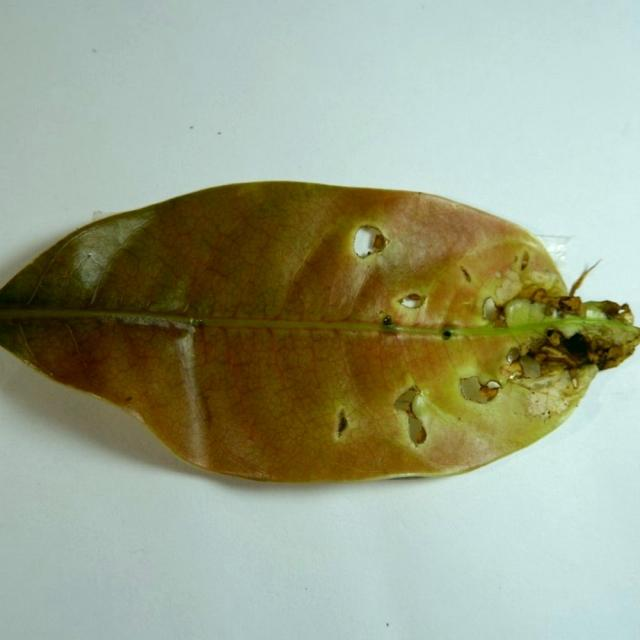Anthracnose: (339, 222, 392, 275), (469, 287, 511, 338), (393, 385, 427, 445), (459, 374, 503, 403), (561, 331, 590, 357), (398, 292, 428, 311), (518, 355, 541, 378), (335, 407, 349, 436), (461, 267, 472, 283), (442, 330, 452, 340)
Mango: (0, 181, 639, 487)
